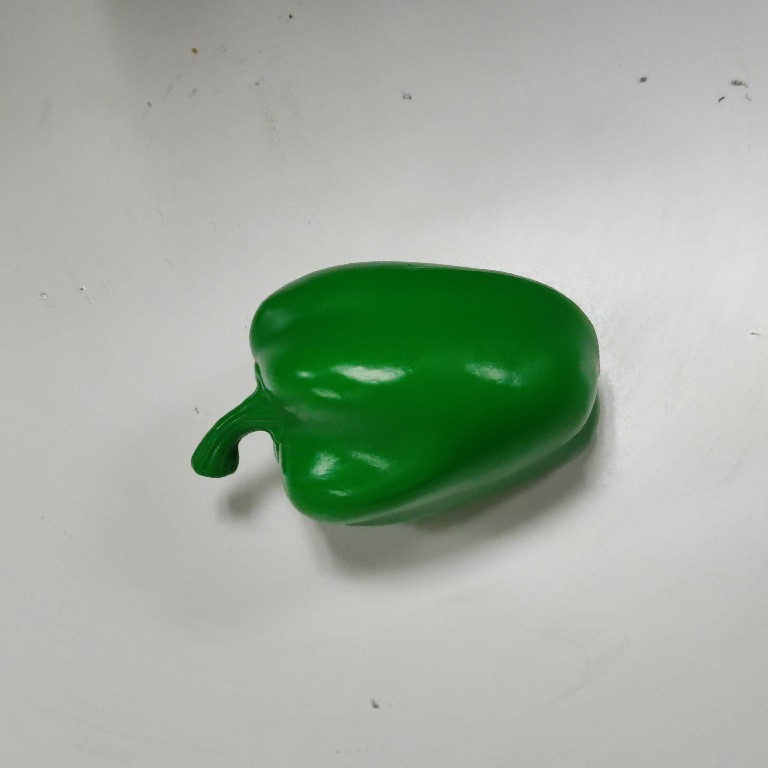fruit_pepper: (187, 255, 606, 529)
